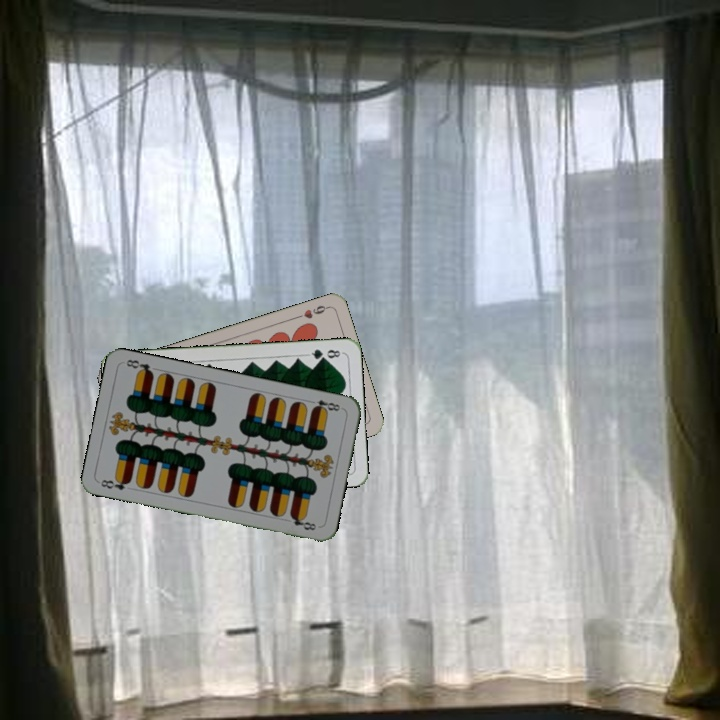E8: (305, 396, 345, 415), (97, 474, 133, 493)
G8: (304, 345, 345, 363)
H9: (291, 301, 331, 321)
